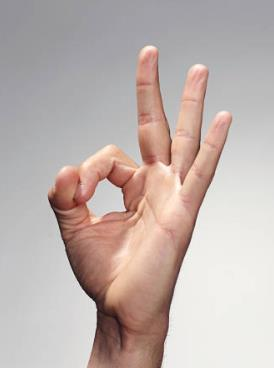left: (40, 43, 235, 317)
